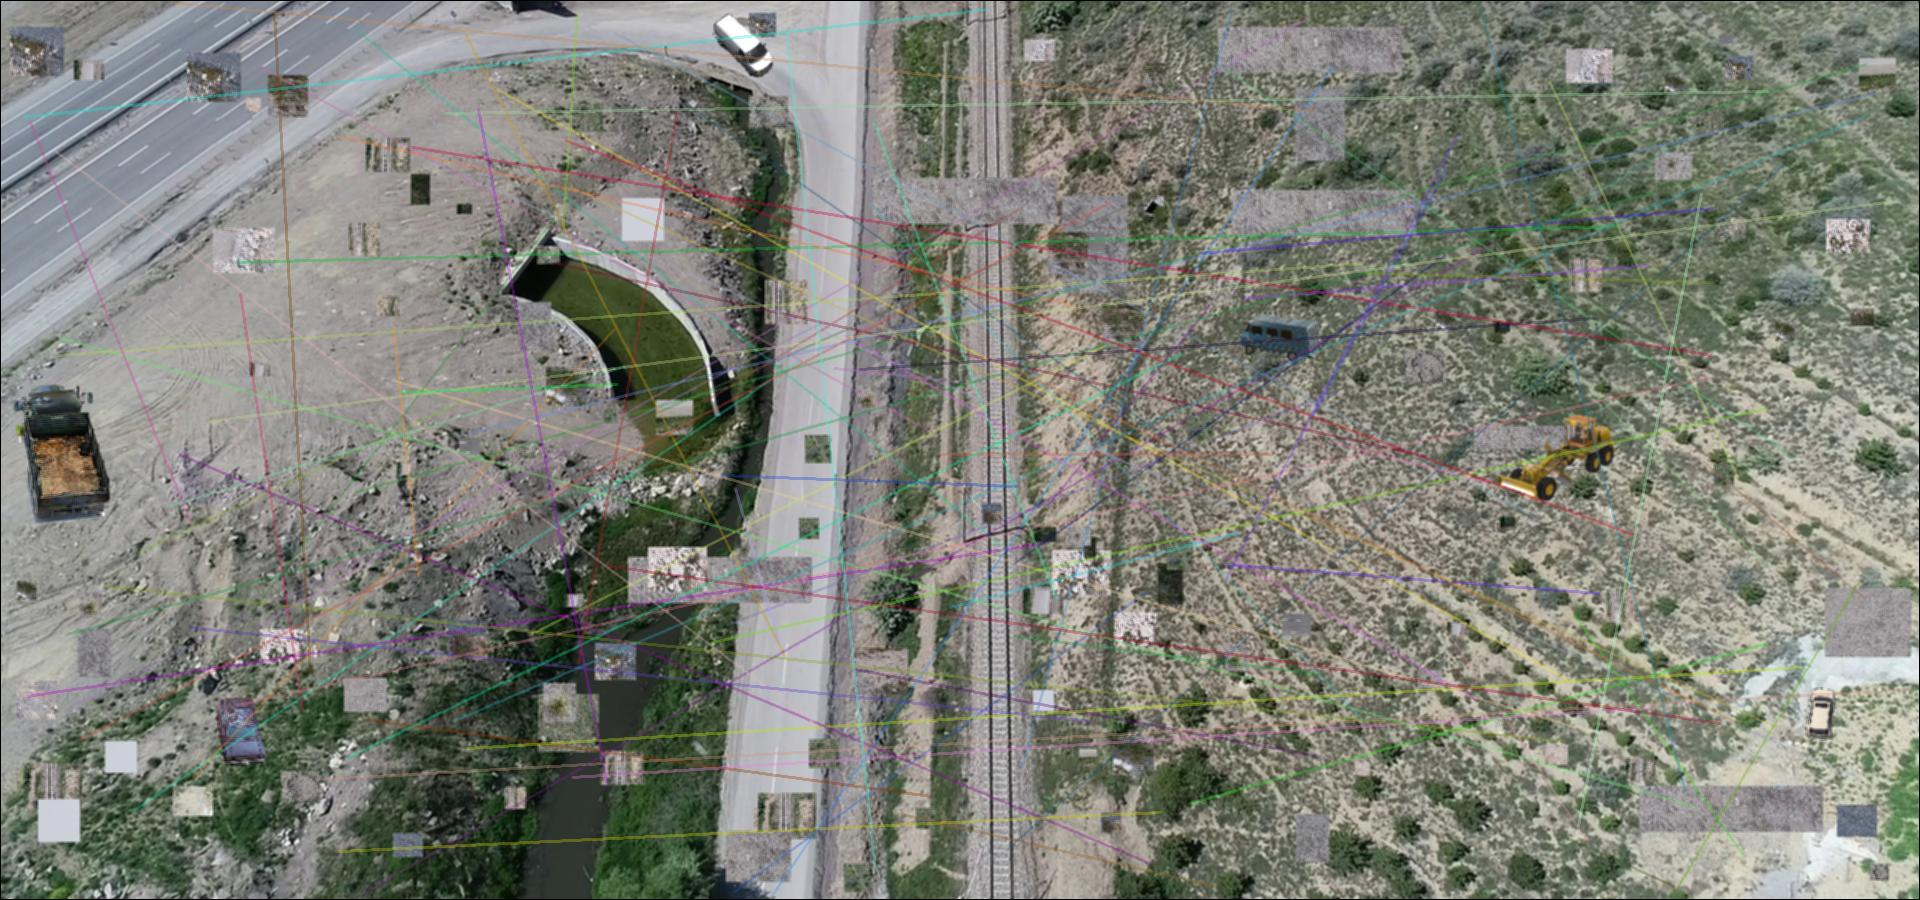arac: (9, 384, 113, 523), (1495, 410, 1625, 506), (1238, 313, 1322, 362), (213, 697, 269, 768), (713, 12, 774, 77), (1804, 687, 1837, 740)
